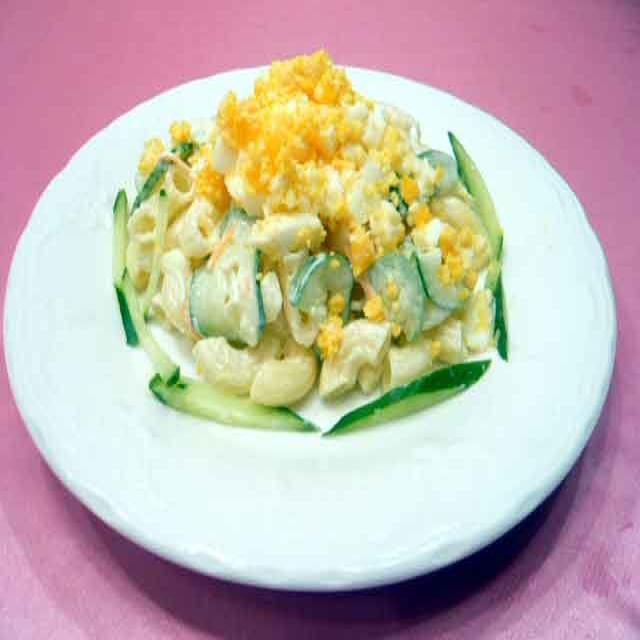蔬菜料理: (20, 85, 564, 544)
